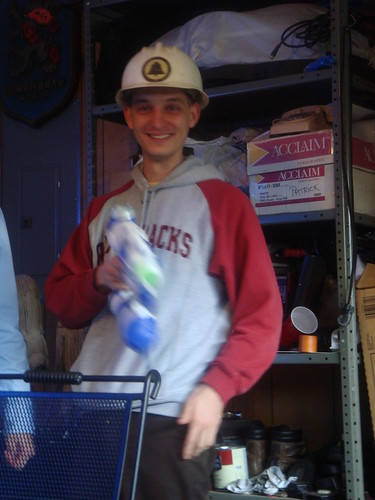person hardhat: (39, 43, 271, 500)
